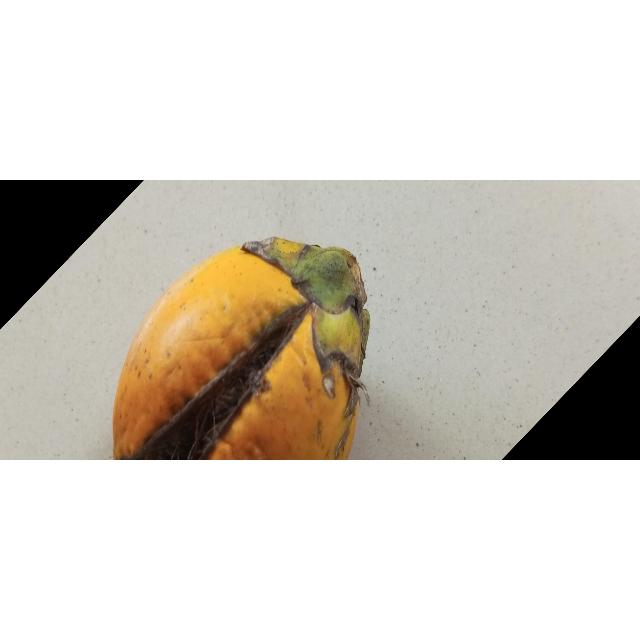damaged: (113, 237, 370, 461)
